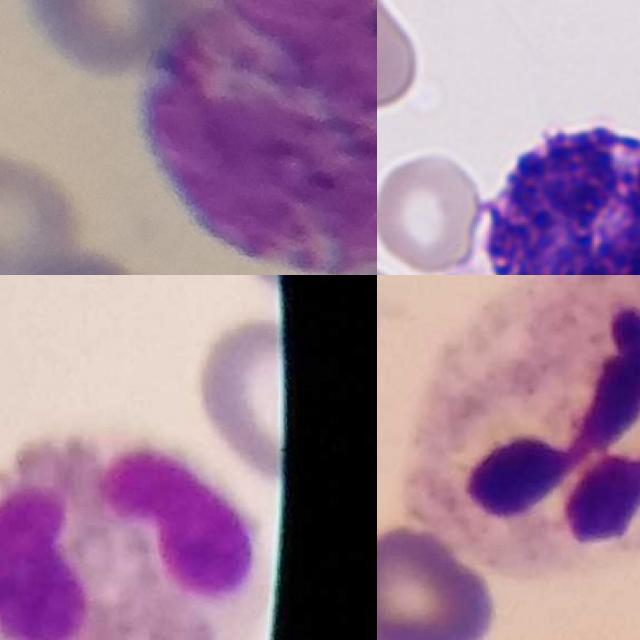Basophil: (143, 0, 377, 275), (463, 102, 640, 275)
Eosinophil: (0, 439, 273, 640)
Neutrophil: (411, 275, 640, 565)
RBC: (377, 143, 491, 275), (377, 0, 426, 115)
